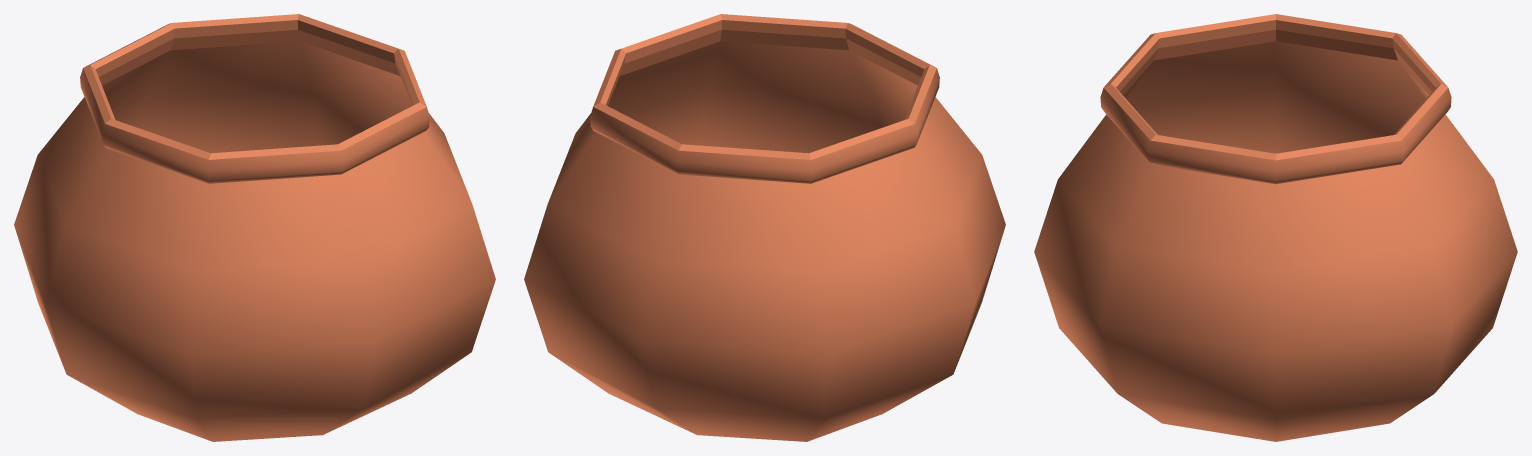
File: basket1.fbx
3 views of the same model, side by side, from view 1: azimuth 30°, elevation 25°; view 2: azimuth 150°, elevation 25°; view 3: azimuth 270°, elevation 25° (orthographic).
Visible parts, largest first — view 1: Cube.088; view 2: Cube.088; view 3: Cube.088.
Boxes of the visible parts, x1,y1,x2,y2 form: Cube.088: [14, 14, 495, 441]; Cube.088: [524, 14, 1005, 441]; Cube.088: [1034, 14, 1517, 441].
Size of the model in its own units: 261 by 191 by 261.
